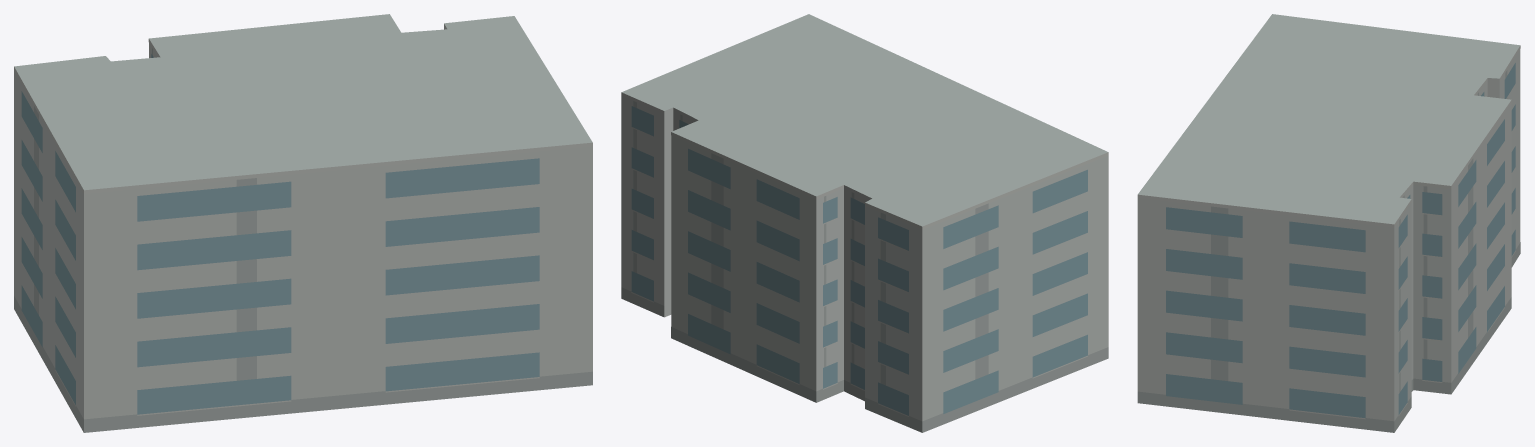
Rendered from survey-upis-33002637.glb.
3 views of the same model, side by side, from view 1: azimuth 30°, elevation 25°; view 2: azimuth 150°, elevation 25°; view 3: azimuth 270°, elevation 25° (orthographic). The views are drawn at different scales.
Visible parts, largest first — view 1: survey-upis-33002637.tmp; view 2: survey-upis-33002637.tmp; view 3: survey-upis-33002637.tmp.
Part boxes in pixels (x1,y1,x2,y2): survey-upis-33002637.tmp: (14, 14, 592, 432); survey-upis-33002637.tmp: (621, 14, 1108, 432); survey-upis-33002637.tmp: (1137, 14, 1520, 432).
Bounding box in the file's own units: 33.01 × 15.25 × 25.38.
